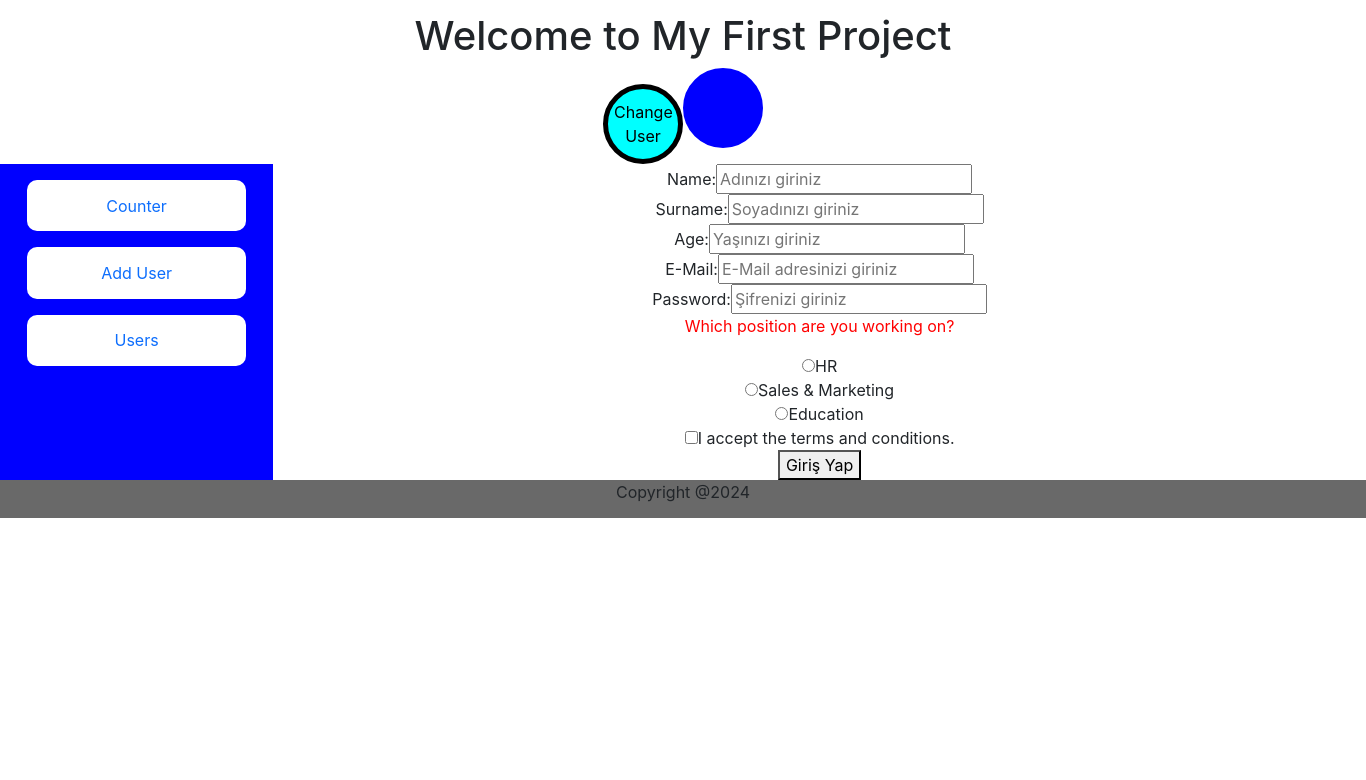
Add User Page Testleri › Hata Testleri › Should show error if name is less than 3 characters
Click the link with test id "add-user-page" at (137, 273), box [27, 247, 246, 298]
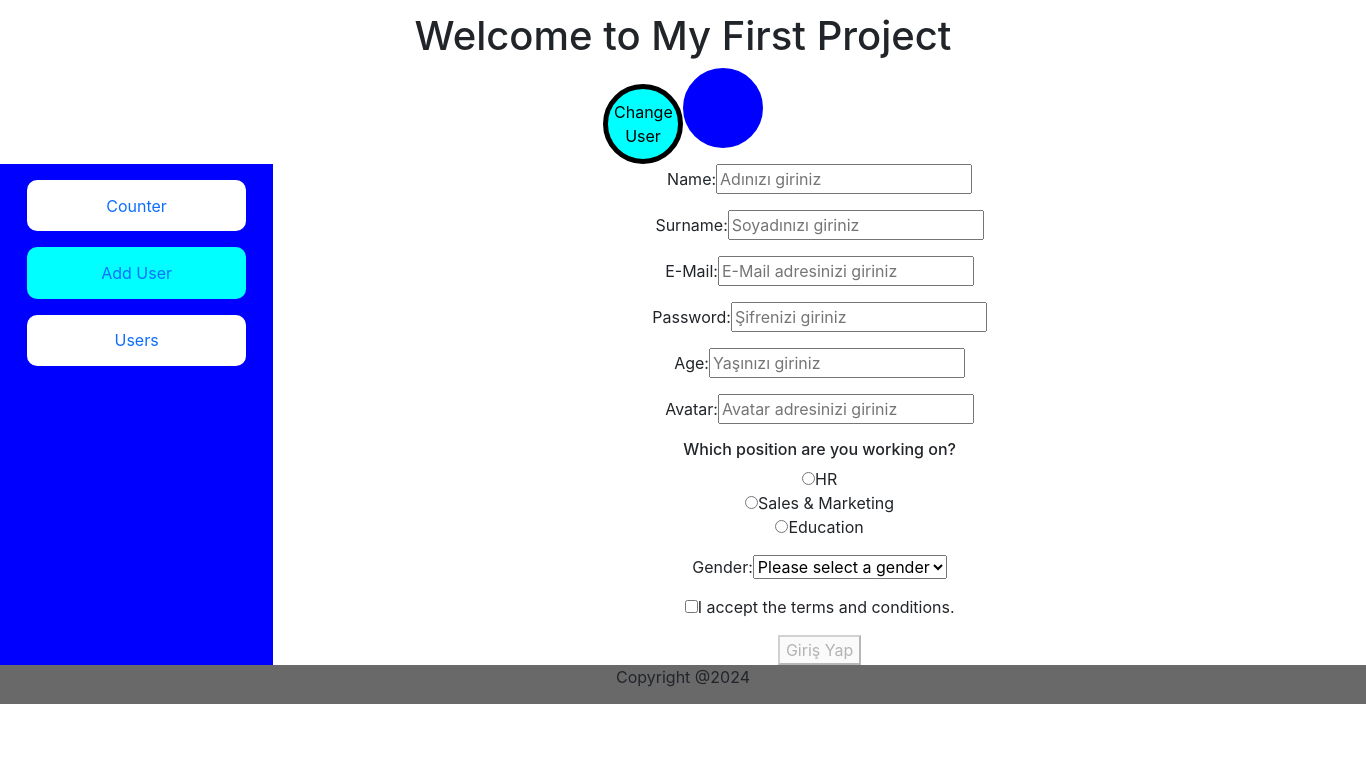
Type "se" into the field named "first_name" at (844, 179), box [716, 164, 972, 194]
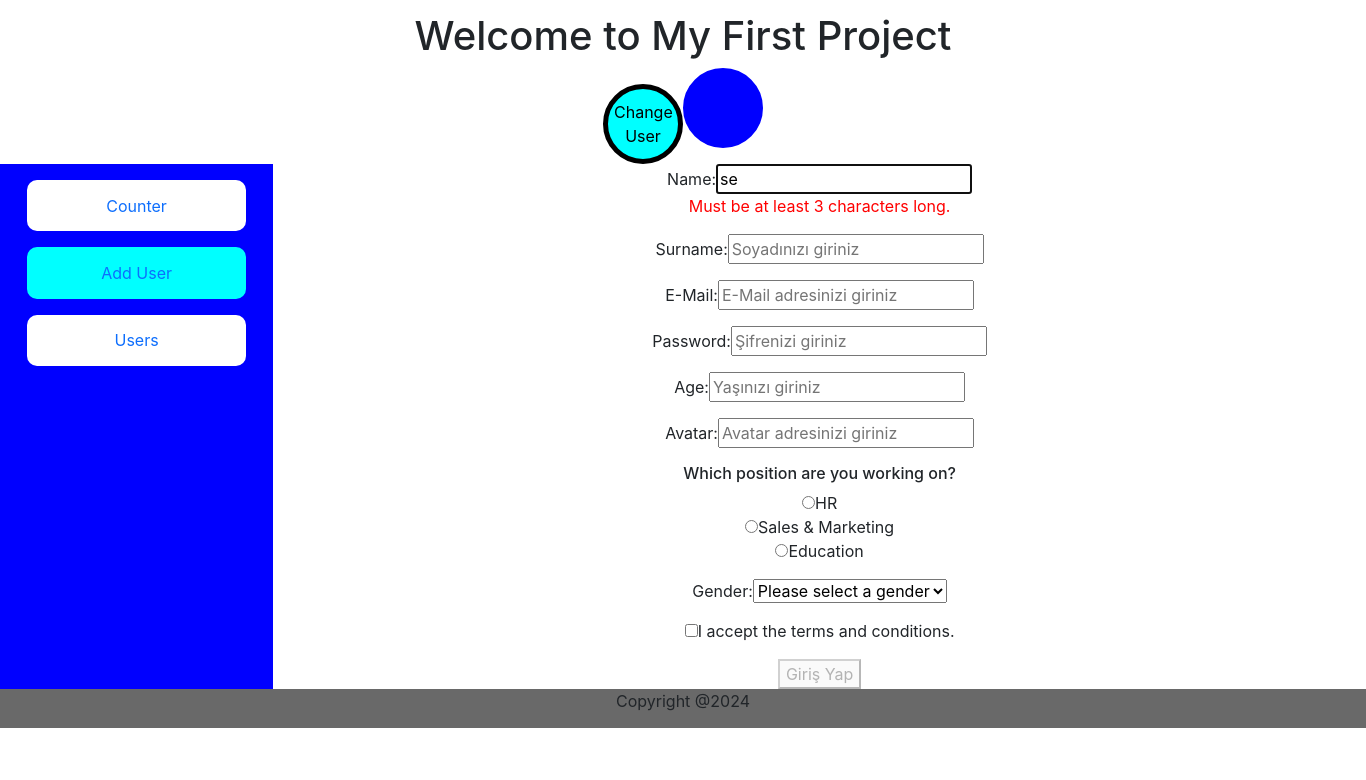
expect the text "Must be at least 3 characters long." is shown: met, box [667, 194, 972, 218]
